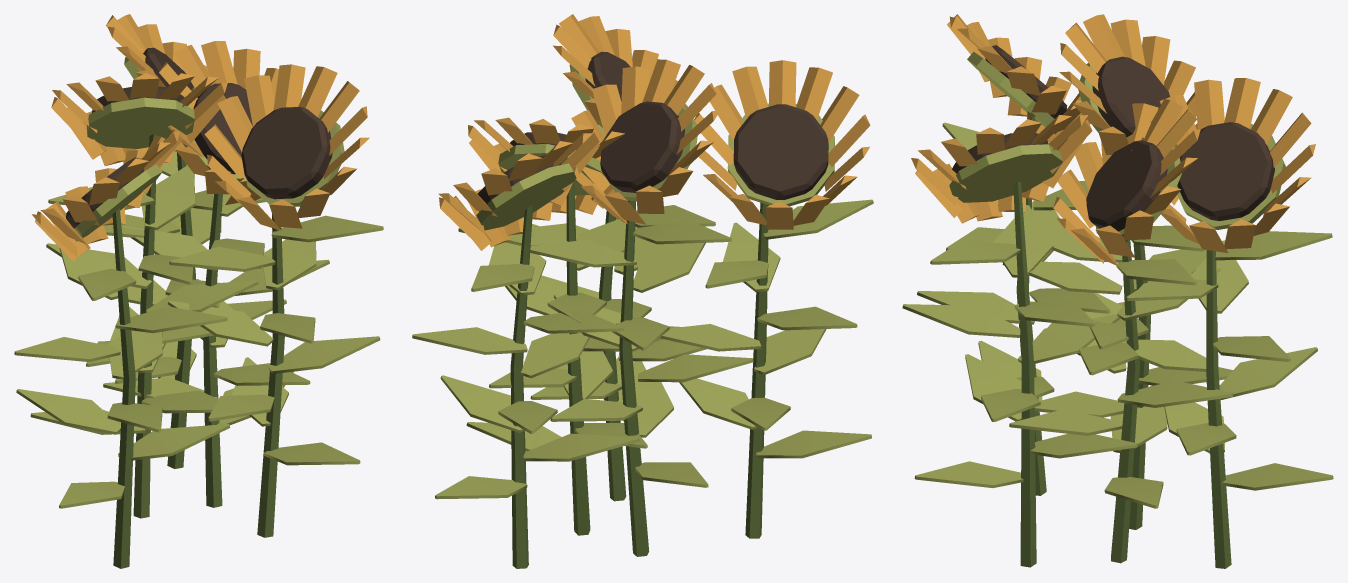
Rendered from crop_sunflower_mature.glb.
3 renders of one model, left to right at view 1: azimuth 30°, elevation 25°; view 2: azimuth 150°, elevation 25°; view 3: azimuth 270°, elevation 25°, orthographic. The views are drawn at different scales.
Parts seen in each view (by area): view 1: sunflower_head_00_back, sunflower_head_00_petal_00, sunflower_stem_00, sunflower_head_00_disc; view 2: sunflower_head_00_back, sunflower_head_00_petal_00, sunflower_stem_00, sunflower_head_00_disc; view 3: sunflower_head_00_back, sunflower_head_00_petal_00, sunflower_head_00_disc, sunflower_stem_00.
Part boxes in pixels (bbox=[...]): sunflower_head_00_back: bbox=[14, 57, 383, 508]; sunflower_head_00_petal_00: bbox=[32, 14, 369, 261]; sunflower_stem_00: bbox=[112, 134, 284, 568]; sunflower_head_00_disc: bbox=[66, 47, 332, 228]; sunflower_head_00_back: bbox=[412, 64, 873, 499]; sunflower_head_00_petal_00: bbox=[438, 14, 870, 250]; sunflower_stem_00: bbox=[510, 183, 768, 568]; sunflower_head_00_disc: bbox=[477, 51, 828, 211]; sunflower_head_00_back: bbox=[902, 51, 1333, 508]; sunflower_head_00_petal_00: bbox=[911, 14, 1315, 266]; sunflower_head_00_disc: bbox=[952, 45, 1274, 231]; sunflower_stem_00: bbox=[1013, 111, 1231, 568].
Bounding box in the file's own units: 1.21 × 1.58 × 1.26.
